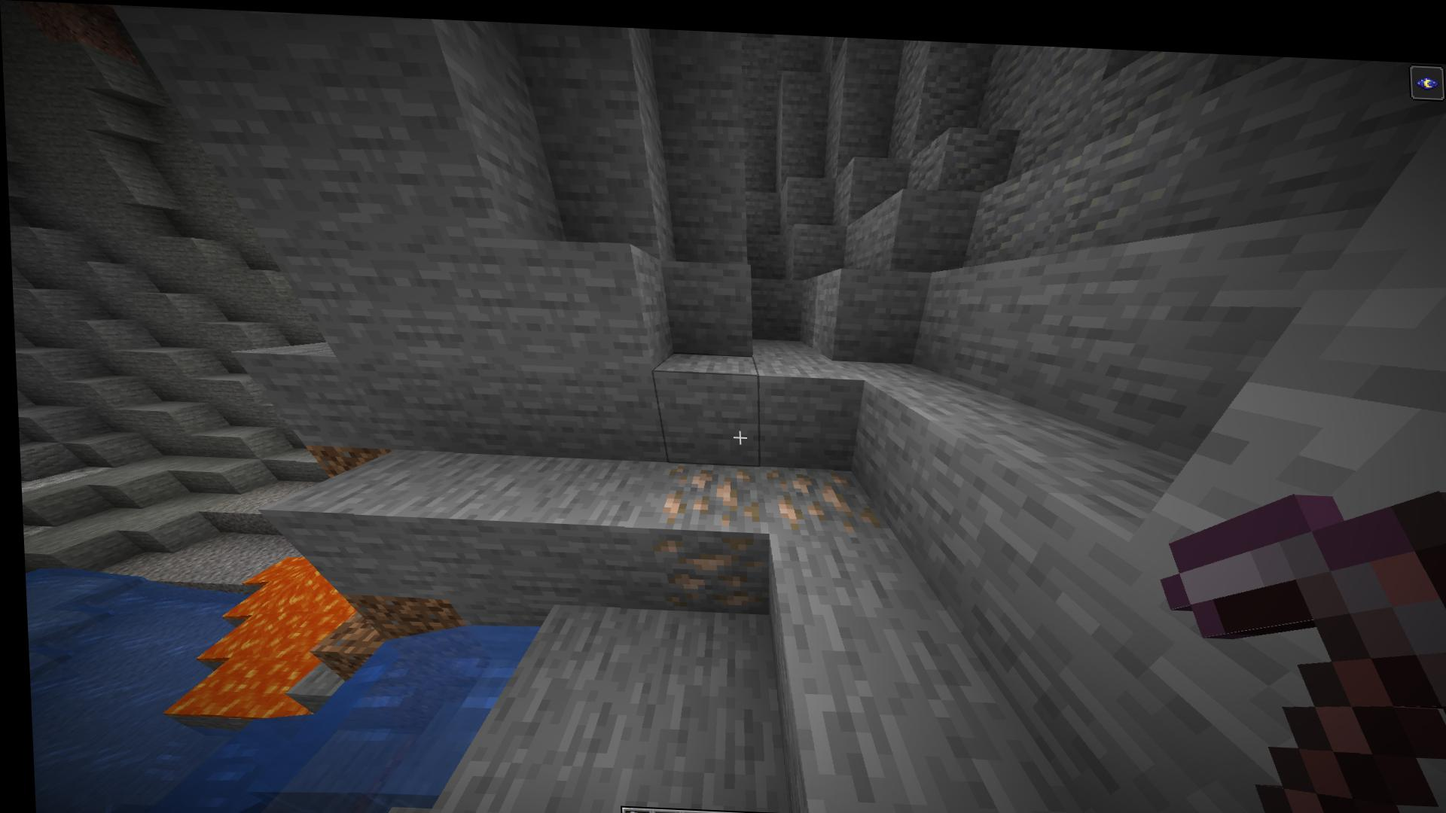iron ore: (652, 520, 764, 606), (756, 453, 875, 526), (654, 454, 758, 533)
